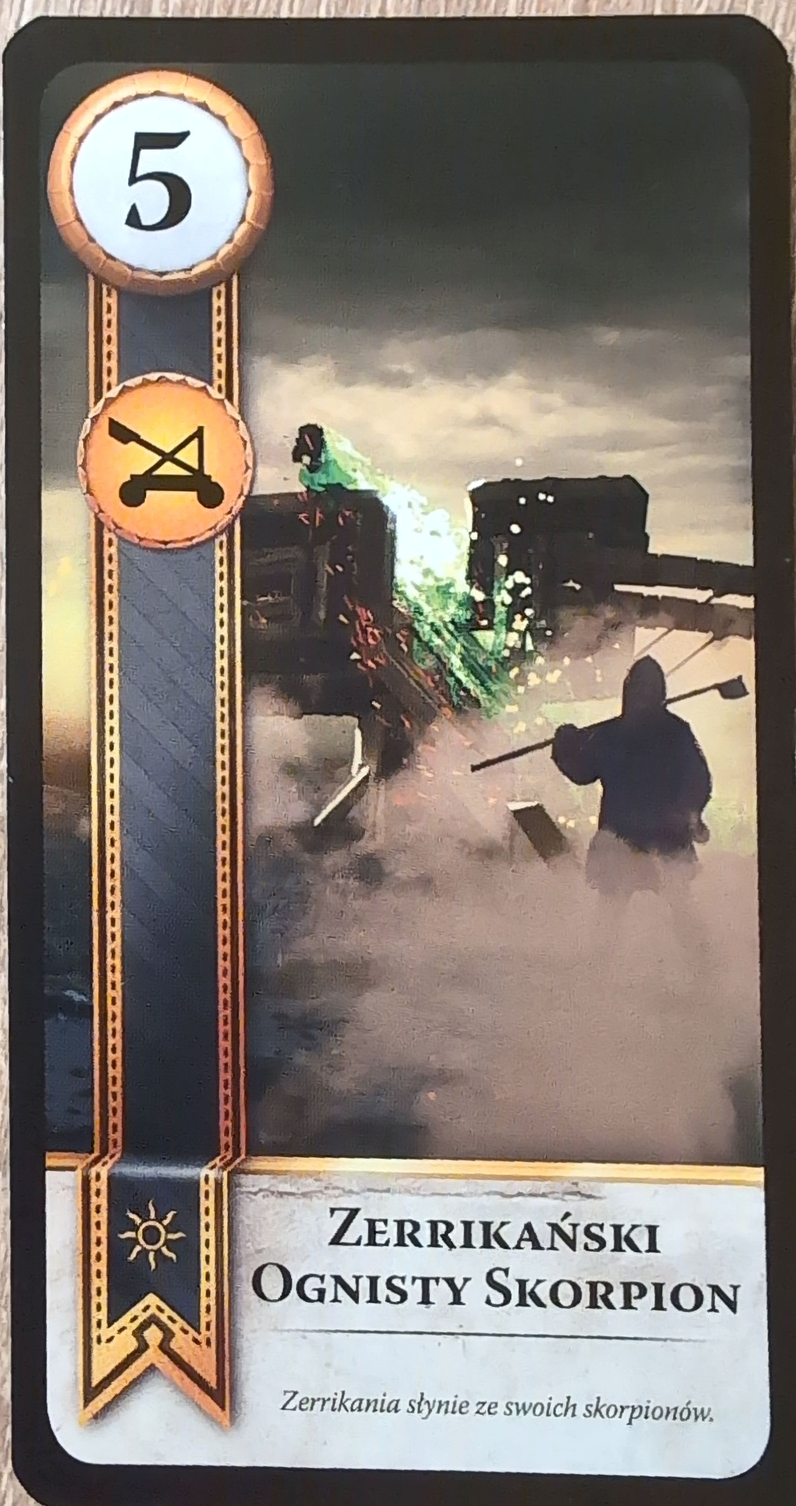5: (45, 67, 276, 296)
katapulta: (73, 372, 256, 553)
